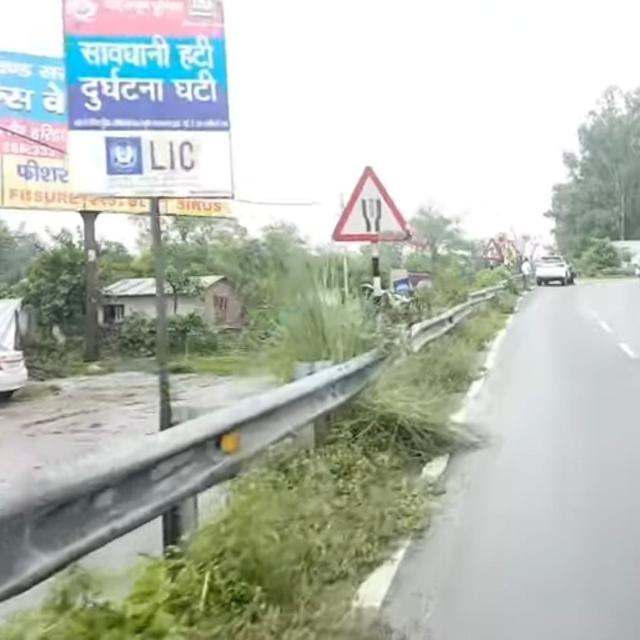start_of_dual_carriageway: (336, 156, 420, 249)
